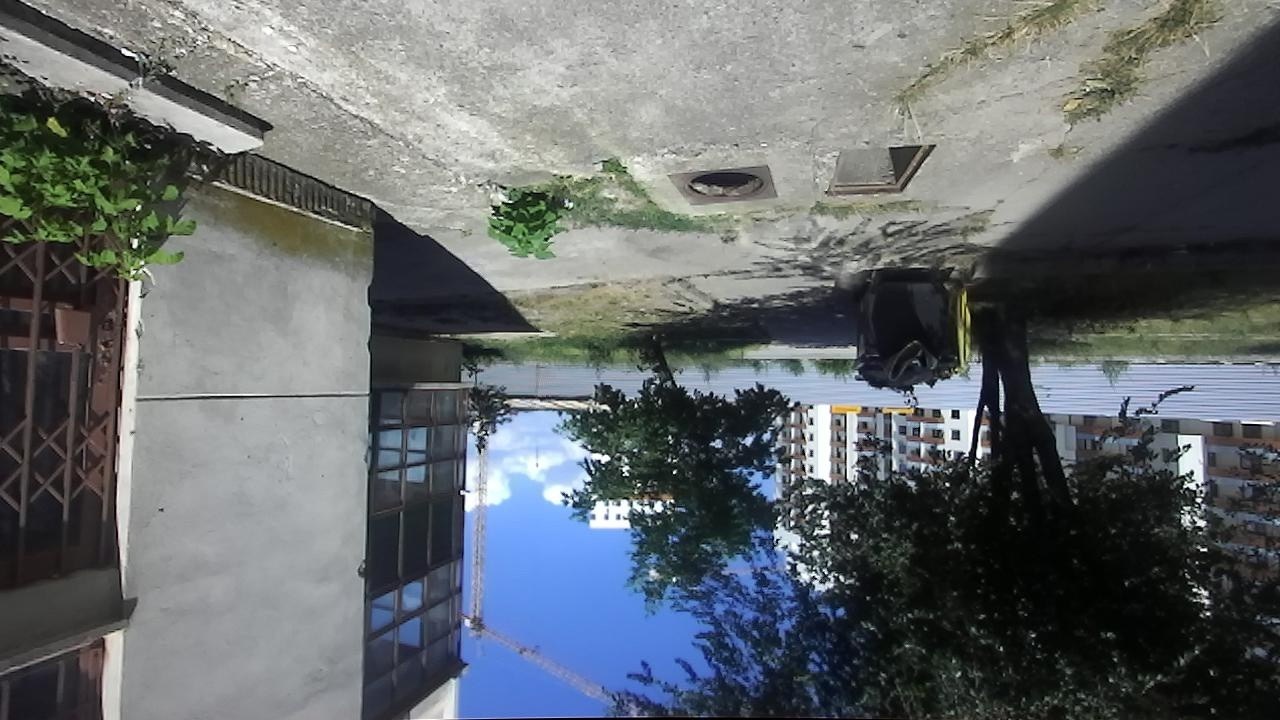drain: (818, 135, 939, 204), (680, 167, 766, 201)
